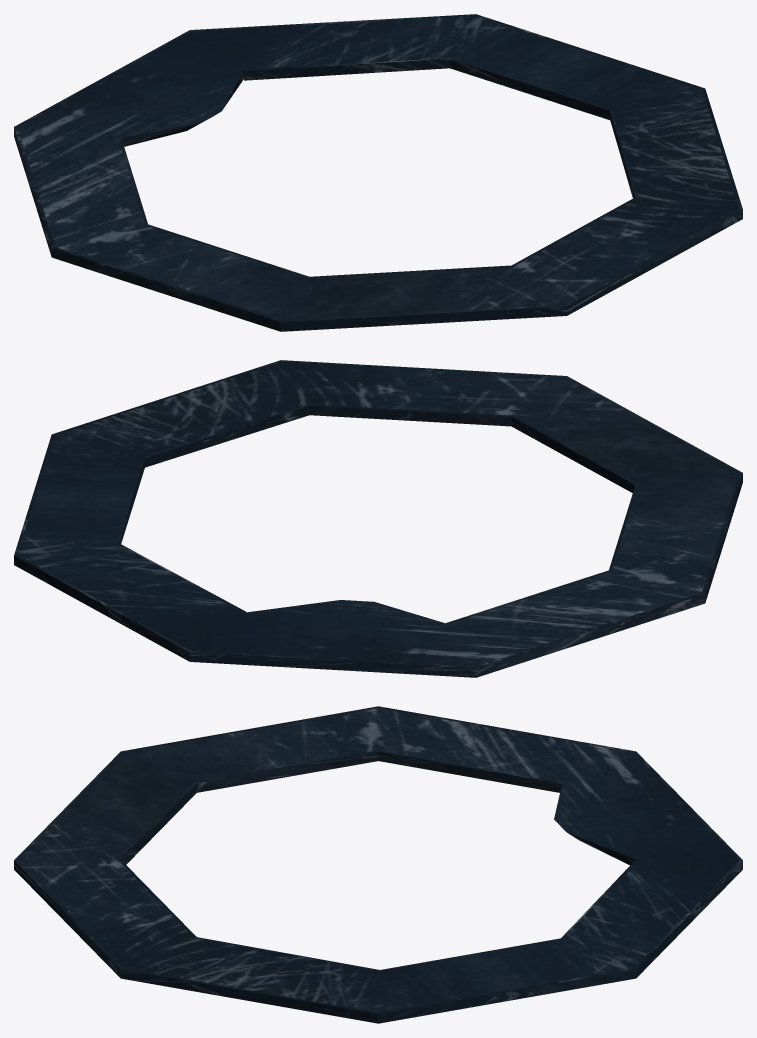
The model's file is floor2.fbx.
3 renders of one model, top to bottom at view 1: azimuth 30°, elevation 25°; view 2: azimuth 150°, elevation 25°; view 3: azimuth 270°, elevation 25°, orthographic. The views are drawn at different scales.
Visible parts, largest first — view 1: Walls; view 2: Walls; view 3: Walls.
Part boxes in pixels (bbox=[...]): Walls: bbox=[14, 14, 742, 331]; Walls: bbox=[14, 360, 742, 677]; Walls: bbox=[14, 706, 742, 1023].
Size of the model in its own units: 280 by 3.95 by 280.
